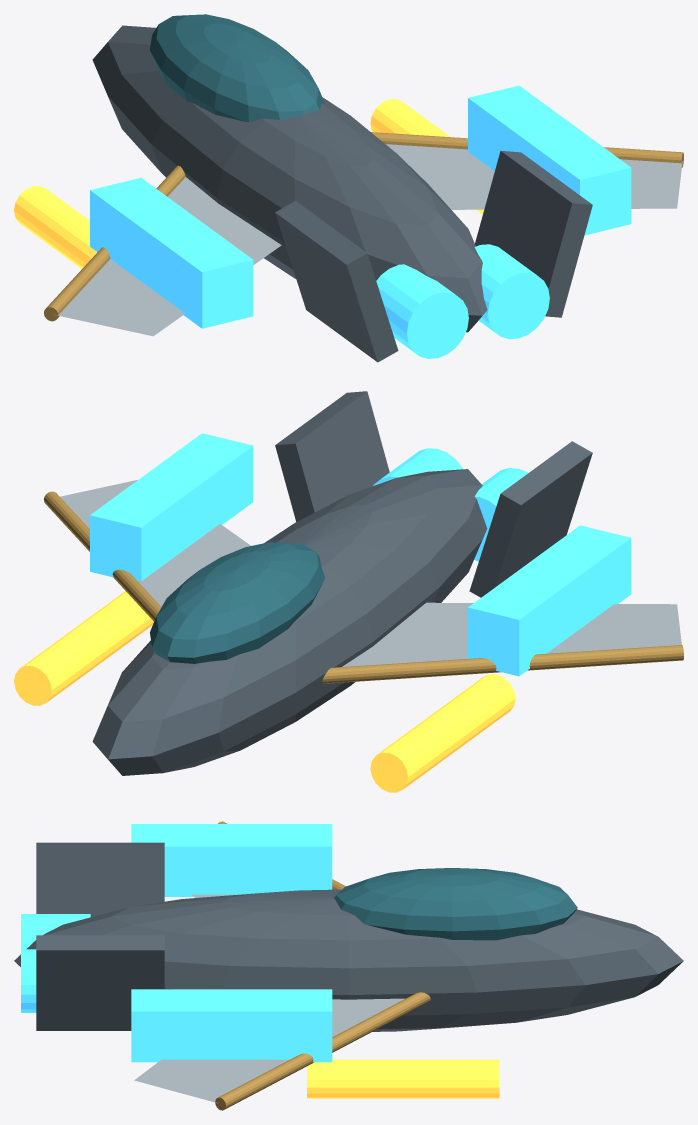
File: aerospace-fighter.glb
3 renders of one model, top to bottom at view 1: azimuth 30°, elevation 25°; view 2: azimuth 150°, elevation 25°; view 3: azimuth 270°, elevation 25°, orthographic. The views are drawn at different scales.
Visible parts, largest first — view 1: streamlined fuselage, aerospace ion pod, cockpit, aerospace ion pod.001, tail stabilizer.001, tail stabilizer, swept main wing, swept main wing.001, exhaust, exhaust.001, underwing missile, wing edge accent.001 (+2 smaller); view 2: streamlined fuselage, aerospace ion pod.001, aerospace ion pod, cockpit, swept main wing, tail stabilizer.001, tail stabilizer, underwing missile, underwing missile.001, wing edge accent, swept main wing.001, wing edge accent.001 (+2 smaller); view 3: streamlined fuselage, aerospace ion pod.001, cockpit, aerospace ion pod, tail stabilizer.001, tail stabilizer, underwing missile.001, swept main wing.001, wing edge accent.001, exhaust, exhaust.001.
Part boxes in pixels (x1,y1,x2,y2): streamlined fuselage: (92,25,487,332); aerospace ion pod: (90,178,253,328); cockpit: (150,14,324,122); aerospace ion pod.001: (468,85,631,235); tail stabilizer.001: (475,150,592,317); tail stabilizer: (275,201,398,362); swept main wing: (54,177,281,336); swept main wing.001: (385,144,682,209); exhaust: (376,264,468,358); exhaust.001: (474,244,549,339); underwing missile: (14,186,97,268); wing edge accent.001: (371,132,683,167); streamlined fuselage: (92,469,487,775); aerospace ion pod.001: (90,433,253,581); aerospace ion pod: (468,525,631,676); cockpit: (150,542,324,663); swept main wing: (342,602,681,666); tail stabilizer.001: (275,391,389,521); tail stabilizer: (469,441,592,597); underwing missile: (370,674,515,792); underwing missile.001: (14,591,153,705); wing edge accent: (322,645,683,683); swept main wing.001: (60,480,250,606); wing edge accent.001: (44,491,161,621); streamlined fuselage: (14,889,683,1031); aerospace ion pod.001: (131,989,332,1062); cockpit: (334,868,577,940); aerospace ion pod: (131,824,332,896); tail stabilizer.001: (36,935,164,1030); tail stabilizer: (36,842,164,916); underwing missile.001: (307,1059,499,1098); swept main wing.001: (134,998,404,1103); wing edge accent.001: (215,992,430,1110); exhaust: (21,914,90,949); exhaust.001: (21,949,36,1012).
Bounding box in the file's own units: 2.37 × 0.59 × 2.4.
